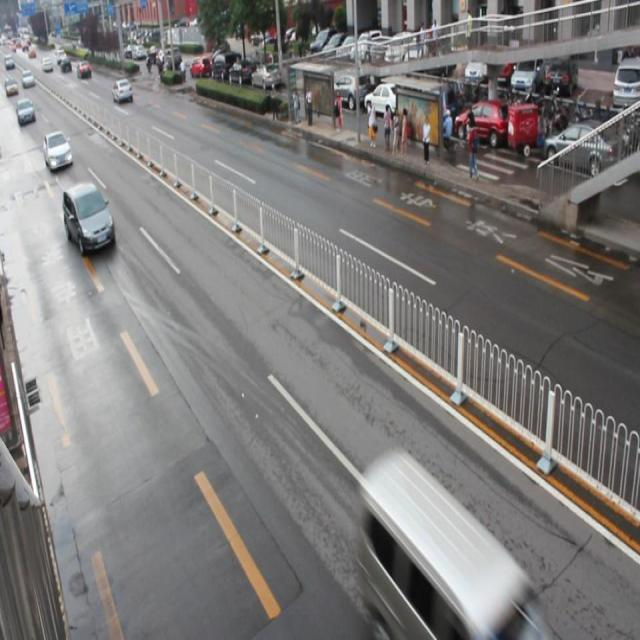car: (43, 130, 73, 172)
truck: (356, 455, 534, 640), (63, 182, 116, 255)
